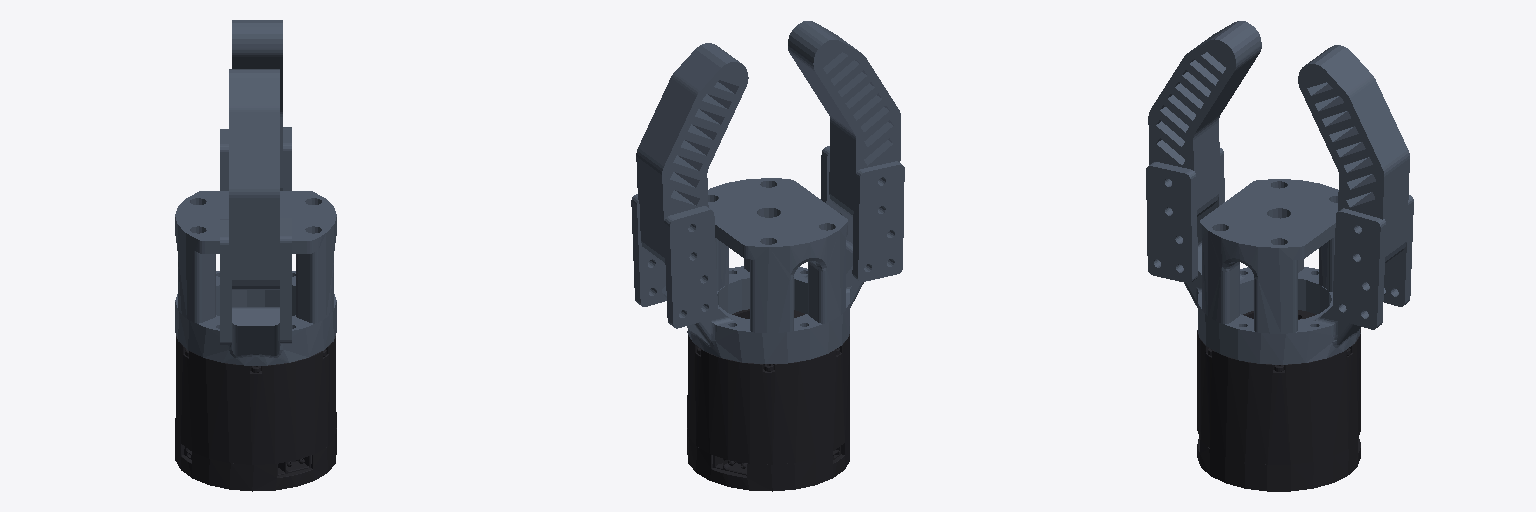
The robot description file, URDF, robot "generated_robot":
<?xml version='1.0' encoding='utf-8'?>
<robot name="generated_robot">
  <material name="motor">
    <color rgba="0.18 0.18 0.2 1" />
  </material>
  <material name="shell">
    <color rgba="0.82 0.84 0.86 1" />
  </material>
  <material name="bearing">
    <color rgba="0.6 0.61 0.63 1" />
  </material>
  <material name="structure">
    <color rgba="0.36 0.4 0.46 1" />
  </material>
  <material name="gripper">
    <color rgba="0.91 0.49 0.2 1" />
  </material>
  <link name="base_link">
    <inertial>
      <origin xyz="4.40151839e-05 2.87796479e-06 -0.00221335342" rpy="0 0 0" />
      <mass value="0.280685637" />
      <inertia ixx="0.000257920411" iyy="0.000259109402" izz="0.000133051852" ixy="8.27049847e-07" ixz="4.6932956e-07" iyz="-3.2630713e-10" />
    </inertial>
    <visual>
      <material name="motor" />
      <origin xyz="-0.0020551205 -1.0285 -0.022307251" rpy="-1.5707963 0 0" />
      <geometry>
        <mesh filename="package://rm_robot_description/meshes/part_001_DM-J4310P-2EC-V1.1.stl" scale="0.001 0.001 0.001" />
      </geometry>
    </visual>
    <visual>
      <material name="structure" />
      <origin xyz="-0.0020551205 -1.0285 -0.022307251" rpy="-1.5707963 0 0" />
      <geometry>
        <mesh filename="package://rm_robot_description/meshes/part_002_-_-1.stl" scale="0.001 0.001 0.001" />
      </geometry>
    </visual>
    <visual>
      <material name="structure" />
      <origin xyz="-0.0020551205 -1.0285 -0.022307251" rpy="-1.5707963 0 0" />
      <geometry>
        <mesh filename="package://rm_robot_description/meshes/part_009_-_-1.stl" scale="0.001 0.001 0.001" />
      </geometry>
    </visual>
    <collision>
      <origin xyz="-0.0020551205 -1.0285 -0.022307251" rpy="-1.5707963 0 0" />
      <geometry>
        <mesh filename="package://rm_robot_description/meshes/part_001_DM-J4310P-2EC-V1.1.stl" scale="0.001 0.001 0.001" />
      </geometry>
    </collision>
    <collision>
      <origin xyz="-0.0020551205 -1.0285 -0.022307251" rpy="-1.5707963 0 0" />
      <geometry>
        <mesh filename="package://rm_robot_description/meshes/part_002_-_-1.stl" scale="0.001 0.001 0.001" />
      </geometry>
    </collision>
    <collision>
      <origin xyz="-0.0020551205 -1.0285 -0.022307251" rpy="-1.5707963 0 0" />
      <geometry>
        <mesh filename="package://rm_robot_description/meshes/part_009_-_-1.stl" scale="0.001 0.001 0.001" />
      </geometry>
    </collision>
  </link>
  <link name="link1">
    <inertial>
      <origin xyz="0.00210871824 0.0411229302 -0.00811457052" rpy="0 0 0" />
      <mass value="0.0672420105" />
      <inertia ixx="4.31886613e-05" iyy="7.38601243e-06" izz="4.43321518e-05" ixy="7.38941289e-06" ixz="-5.12252749e-08" iyz="-2.00772539e-07" />
    </inertial>
    <visual>
      <material name="structure" />
      <origin xyz="-0.9243301 -0.046692101 0.50397024" rpy="-3.1415927 -1.0471975 0" />
      <geometry>
        <mesh filename="package://rm_robot_description/meshes/part_003_-_-2.stl" scale="0.001 0.001 0.001" />
      </geometry>
    </visual>
    <visual>
      <material name="structure" />
      <origin xyz="-0.9243301 -0.046692101 0.50397024" rpy="-3.1415927 -1.0471975 0" />
      <geometry>
        <mesh filename="package://rm_robot_description/meshes/part_008_-_-2.stl" scale="0.001 0.001 0.001" />
      </geometry>
    </visual>
    <visual>
      <material name="structure" />
      <origin xyz="-0.9243301 -0.046692101 0.50397024" rpy="-3.1415927 -1.0471975 0" />
      <geometry>
        <mesh filename="package://rm_robot_description/meshes/part_006_-_-2.stl" scale="0.001 0.001 0.001" />
      </geometry>
    </visual>
    <collision>
      <origin xyz="-0.9243301 -0.046692101 0.50397024" rpy="-3.1415927 -1.0471975 0" />
      <geometry>
        <mesh filename="package://rm_robot_description/meshes/part_003_-_-2.stl" scale="0.001 0.001 0.001" />
      </geometry>
    </collision>
    <collision>
      <origin xyz="-0.9243301 -0.046692101 0.50397024" rpy="-3.1415927 -1.0471975 0" />
      <geometry>
        <mesh filename="package://rm_robot_description/meshes/part_008_-_-2.stl" scale="0.001 0.001 0.001" />
      </geometry>
    </collision>
    <collision>
      <origin xyz="-0.9243301 -0.046692101 0.50397024" rpy="-3.1415927 -1.0471975 0" />
      <geometry>
        <mesh filename="package://rm_robot_description/meshes/part_006_-_-2.stl" scale="0.001 0.001 0.001" />
      </geometry>
    </collision>
  </link>
  <link name="link2">
    <inertial>
      <origin xyz="-0.00203159728 0.0411395076 -0.00888551222" rpy="0 0 0" />
      <mass value="0.0672420833" />
      <inertia ixx="4.2864143e-05" iyy="7.59406168e-06" izz="4.42156785e-05" ixy="-7.69132328e-06" ixz="-5.3142732e-08" iyz="2.01645429e-07" />
    </inertial>
    <visual>
      <material name="structure" />
      <origin xyz="-0.85913931 -0.046692101 0.50397024" rpy="-3.1415927 -1.0471975 0" />
      <geometry>
        <mesh filename="package://rm_robot_description/meshes/part_005_-_-2.stl" scale="0.001 0.001 0.001" />
      </geometry>
    </visual>
    <visual>
      <material name="structure" />
      <origin xyz="-0.85913931 -0.046692101 0.50397024" rpy="-3.1415927 -1.0471975 0" />
      <geometry>
        <mesh filename="package://rm_robot_description/meshes/part_004_-_-2.stl" scale="0.001 0.001 0.001" />
      </geometry>
    </visual>
    <visual>
      <material name="structure" />
      <origin xyz="-0.85913931 -0.046692101 0.50397024" rpy="-3.1415927 -1.0471975 0" />
      <geometry>
        <mesh filename="package://rm_robot_description/meshes/part_007_-_-2.stl" scale="0.001 0.001 0.001" />
      </geometry>
    </visual>
    <collision>
      <origin xyz="-0.85913931 -0.046692101 0.50397024" rpy="-3.1415927 -1.0471975 0" />
      <geometry>
        <mesh filename="package://rm_robot_description/meshes/part_005_-_-2.stl" scale="0.001 0.001 0.001" />
      </geometry>
    </collision>
    <collision>
      <origin xyz="-0.85913931 -0.046692101 0.50397024" rpy="-3.1415927 -1.0471975 0" />
      <geometry>
        <mesh filename="package://rm_robot_description/meshes/part_004_-_-2.stl" scale="0.001 0.001 0.001" />
      </geometry>
    </collision>
    <collision>
      <origin xyz="-0.85913931 -0.046692101 0.50397024" rpy="-3.1415927 -1.0471975 0" />
      <geometry>
        <mesh filename="package://rm_robot_description/meshes/part_007_-_-2.stl" scale="0.001 0.001 0.001" />
      </geometry>
    </collision>
  </link>
  <joint name="joint1" type="revolute">
    <origin xyz="0.023658902 0.023978431 0.02438485" rpy="1.5707963 0 1.0471976" />
    <parent link="base_link" />
    <child link="link1" />
    <axis xyz="0 0 1" />
    <limit lower="-1.163" upper="0.110" effort="10" velocity="5" />
  </joint>
  <joint name="joint2" type="revolute">
    <origin xyz="-0.0089364896 -0.032478442 0.02438485" rpy="1.5707963 0 1.0471976" />
    <parent link="base_link" />
    <child link="link2" />
    <axis xyz="0 0 1" />
    <limit lower="-1.57" upper="1.57" effort="10" velocity="5" />
    <mimic joint="joint1" multiplier="-1" offset="0" />
  </joint>
</robot>

--- What the picture shows (computed from the rendered views, not written in the file) ---
The picture shows the robot from 3 angles, left to right: view 1: azimuth 30°, elevation 25°; view 2: azimuth 150°, elevation 25°; view 3: azimuth 270°, elevation 25°; orthographic projection.
Model generated_robot with 3 links and 2 joints (2 revolute), rooted at base_link, posed every joint at zero.
Links seen in each view (by area): view 1: base_link, link2, link1; view 2: base_link, link1, link2; view 3: base_link, link1, link2.
Link boxes in pixels (<box>): base_link: <box>175,191,336,491</box>; link2: <box>220,69,291,344</box>; link1: <box>220,20,291,190</box>; base_link: <box>662,178,863,491</box>; link1: <box>631,43,748,328</box>; link2: <box>788,21,904,281</box>; base_link: <box>1184,179,1385,491</box>; link1: <box>1298,45,1413,329</box>; link2: <box>1146,21,1261,282</box>.
Size in the robot's own frame: 0.0694 by 0.0934 by 0.1597 metres.
9 mesh visuals loaded from 9 distinct referenced files (9 binary STL).
